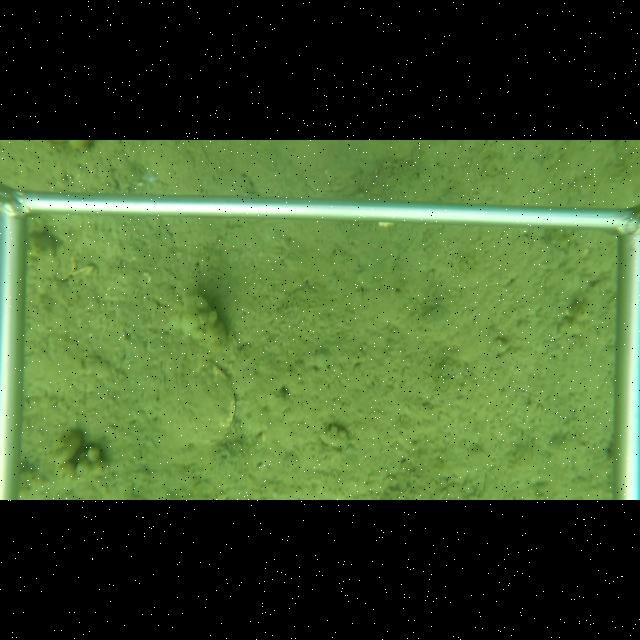Oyster-Closed: (186, 359, 240, 449), (175, 294, 228, 356)
